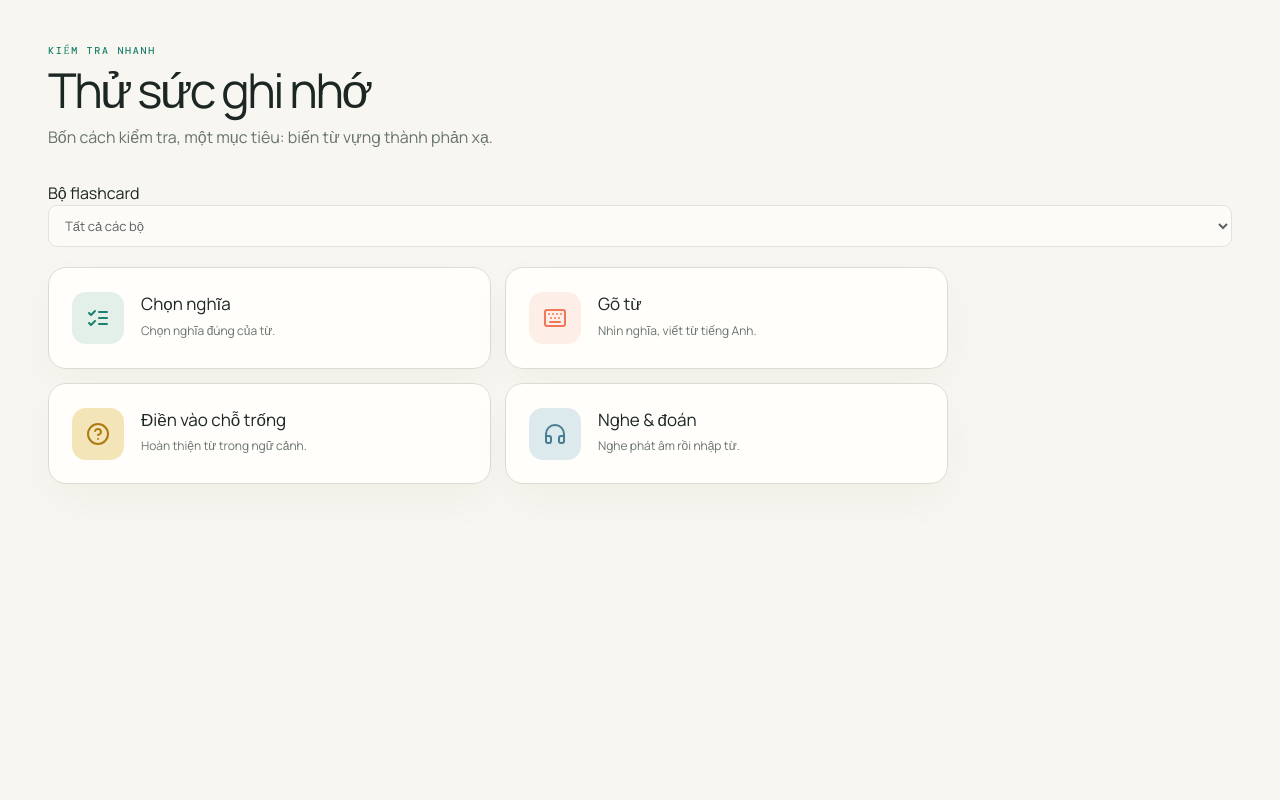
Test: cloze quiz UI › renders the server blank verbatim and retains meaning hints and answer audio
Click the heading "Điền vào chỗ trống" at (224, 420), box [141,407,307,432]
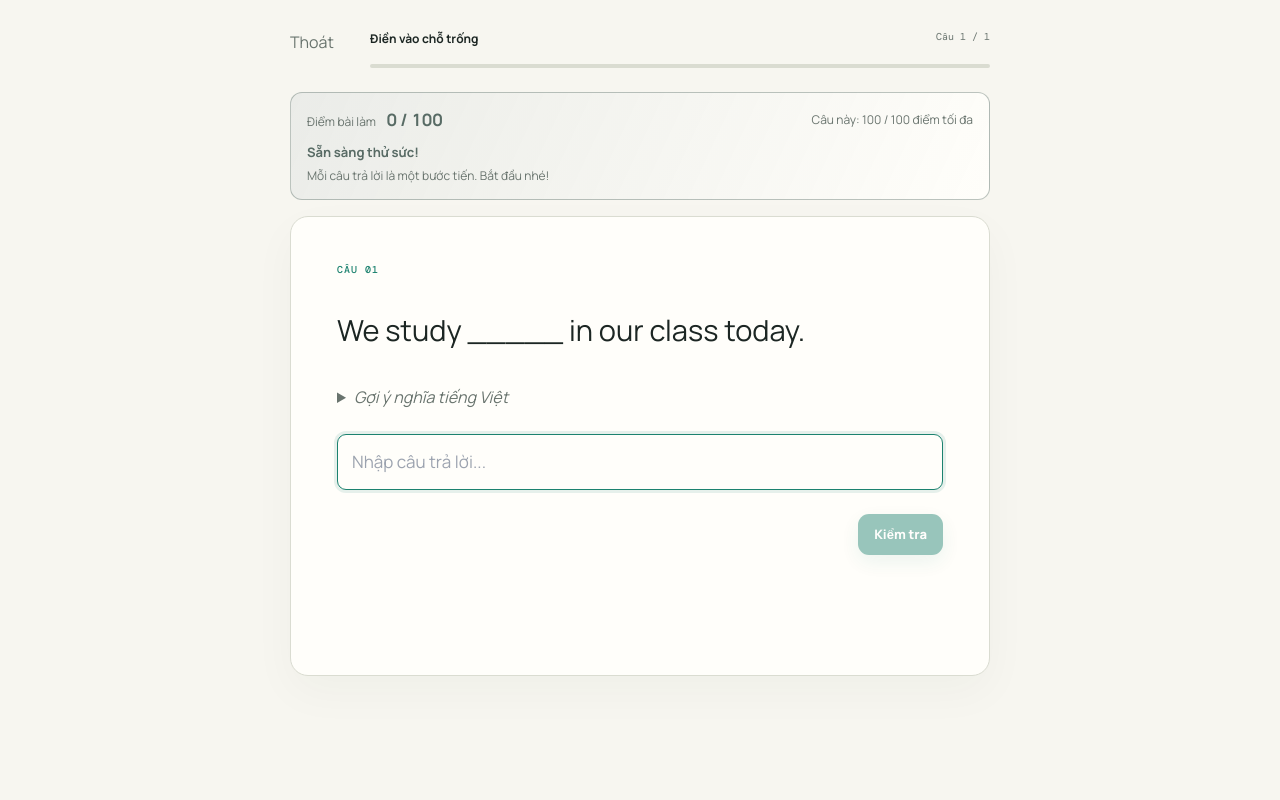
Expected: the heading "We study _____ in our class today." is shown, [337,310,805,350]
Expected: the heading "Gợi ý nghĩa tiếng Việt" is shown, [354,386,508,408]
Type "[" into the field at (640, 462), box [337,434,943,490]
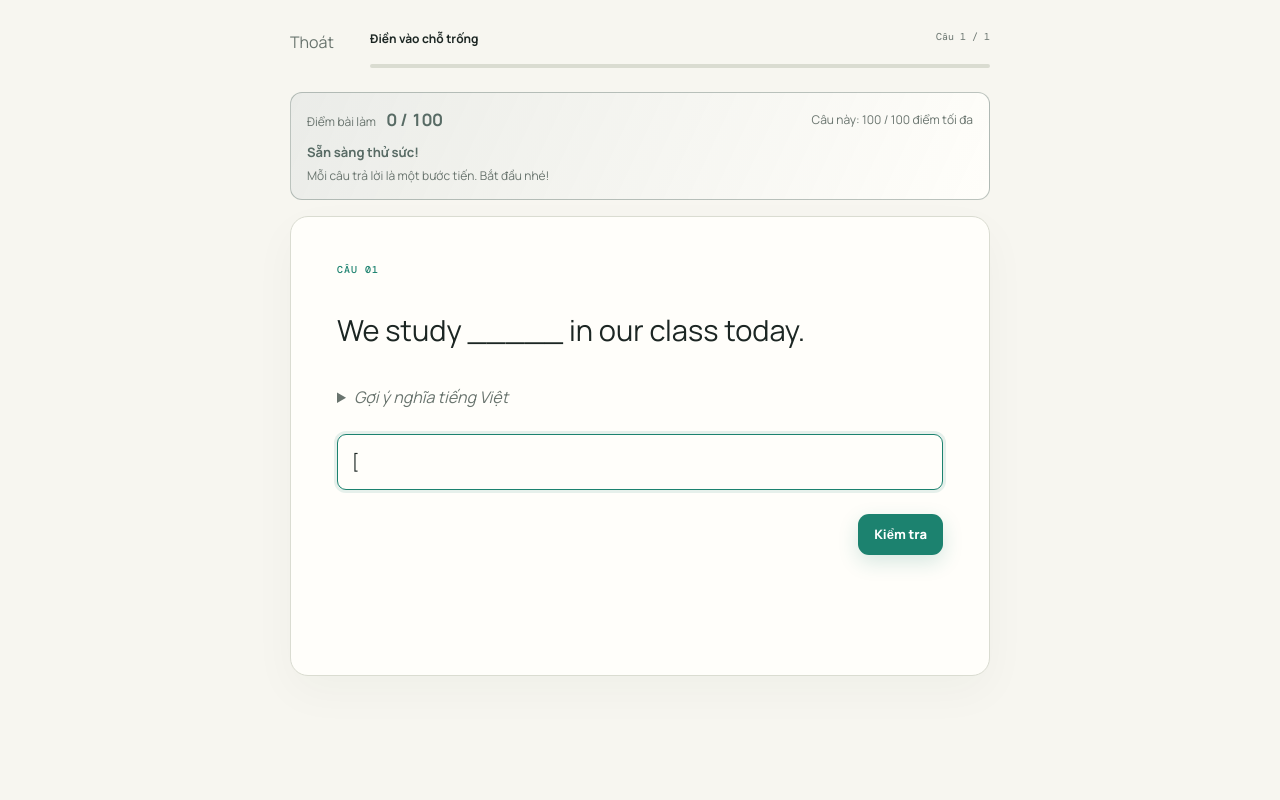
Click the button "Kiểm tra" at (901, 535), box [858,514,943,555]
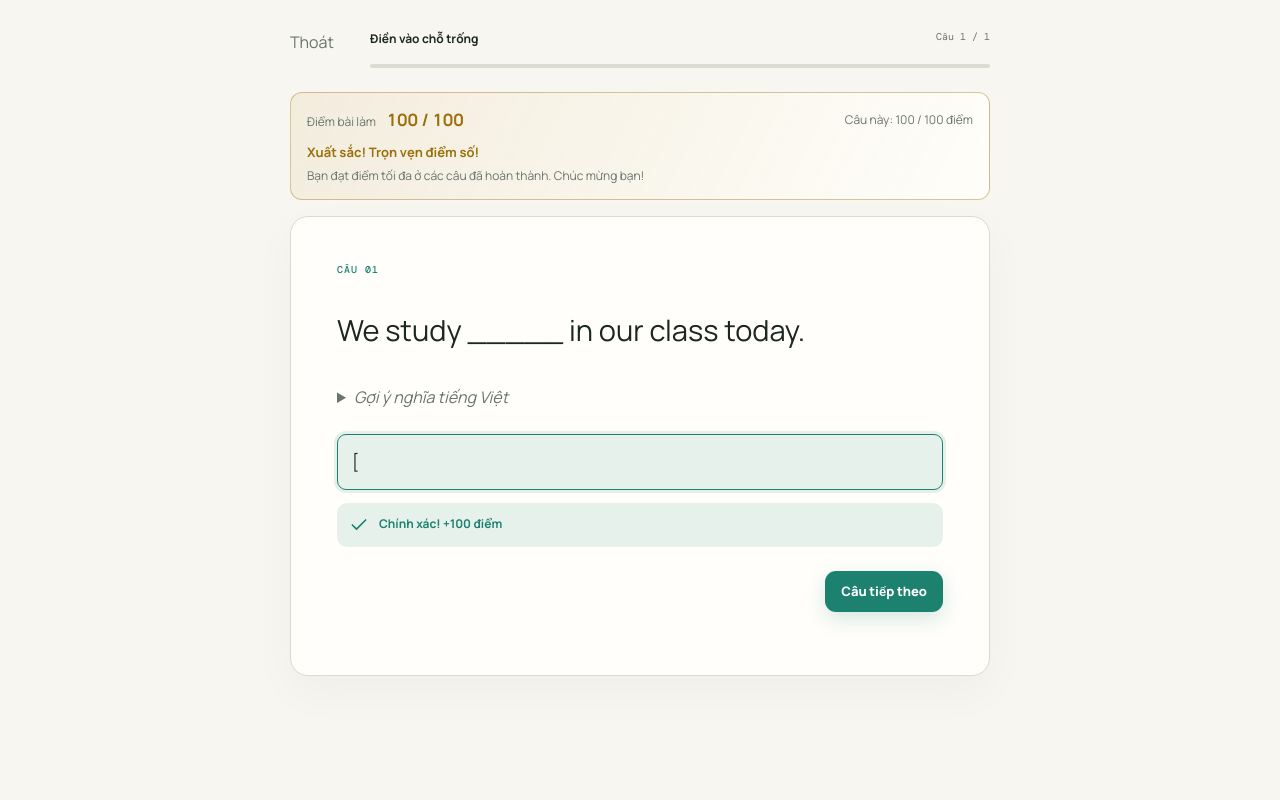
Expected: the text "Chính xác! +100 điểm" is shown, [379,515,502,533]
